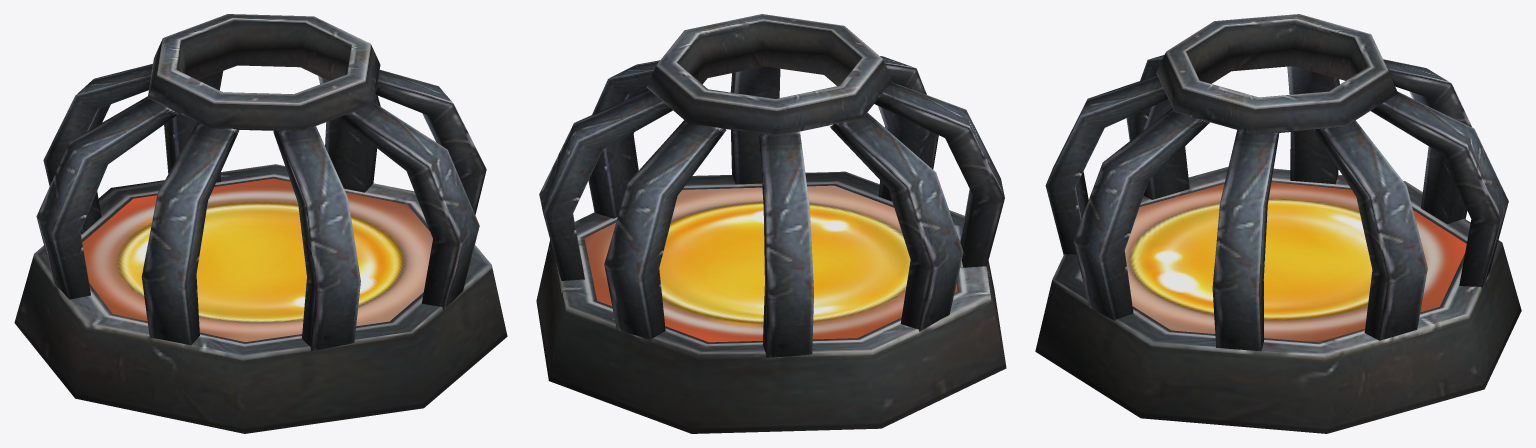
File: LvlButtonCageModel.FBX
The picture shows the model from 3 angles, left to right: view 1: azimuth 30°, elevation 25°; view 2: azimuth 150°, elevation 25°; view 3: azimuth 270°, elevation 25°; orthographic projection.
Visible parts, largest first — view 1: LvlButtonCageModel; view 2: LvlButtonCageModel; view 3: LvlButtonCageModel.
Boxes of the visible parts, x1=… form: LvlButtonCageModel: x1=14, y1=14, x2=507, y2=433; LvlButtonCageModel: x1=536, y1=14, x2=1006, y2=433; LvlButtonCageModel: x1=1035, y1=14, x2=1521, y2=433.
Size of the model in its own units: 67.09 by 67.09 by 41.63.
